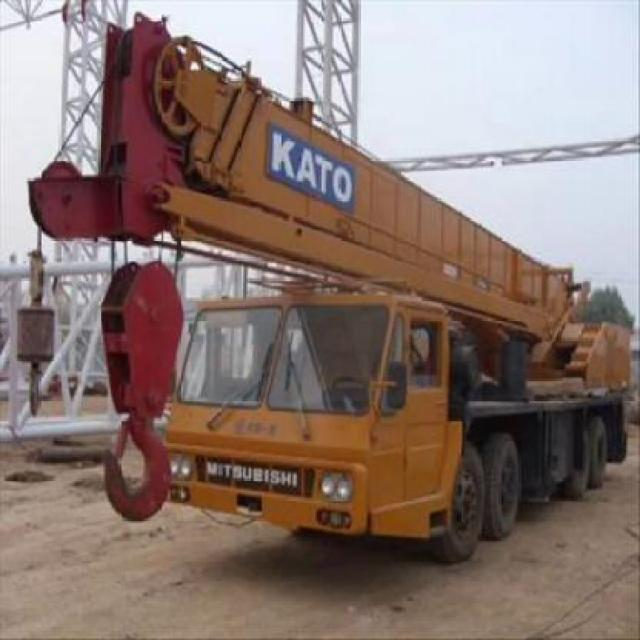Mobile Crane: (27, 14, 624, 558)
